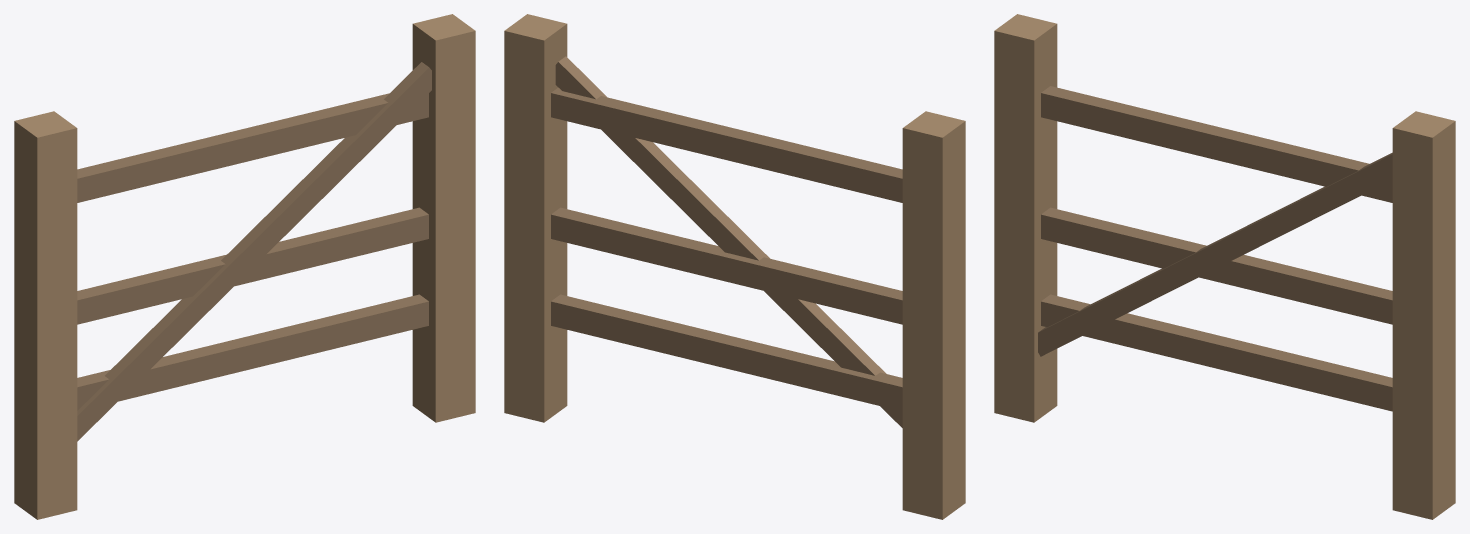
The model's file is fence_gate.glb.
3 views of the same model, side by side, from view 1: azimuth 30°, elevation 25°; view 2: azimuth 150°, elevation 25°; view 3: azimuth 330°, elevation 25° (orthographic).
Parts seen in each view (by area): view 1: fence_gate; view 2: fence_gate; view 3: fence_gate.
Part boxes in pixels (x1,y1,x2,y2): fence_gate: [14, 14, 475, 519]; fence_gate: [504, 14, 965, 519]; fence_gate: [994, 14, 1455, 519].
Size of the model in its own units: 1.32 by 1.1 by 0.12.
